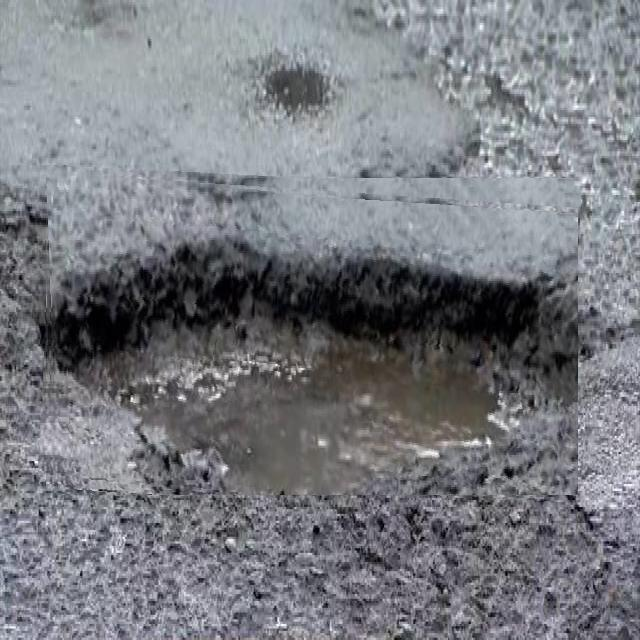Pothole: (42, 172, 578, 495)
